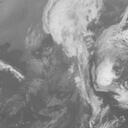cyclone: (96, 62, 116, 88)
